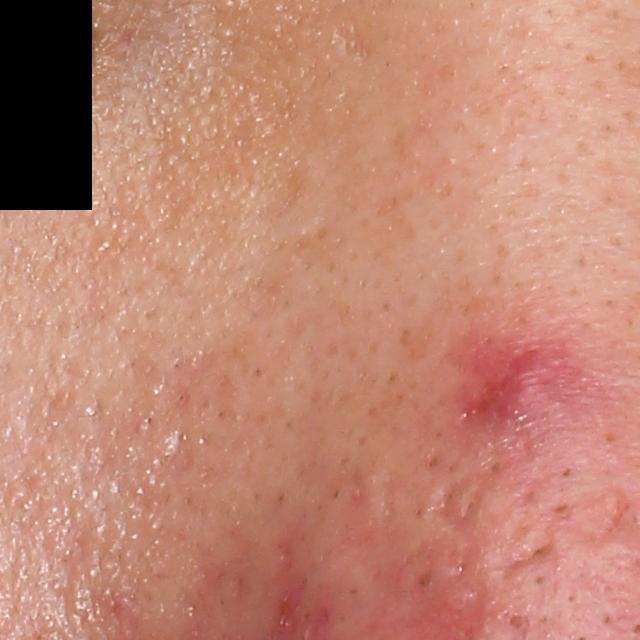atrophic_scar: (424, 472, 498, 551), (502, 537, 561, 578)
